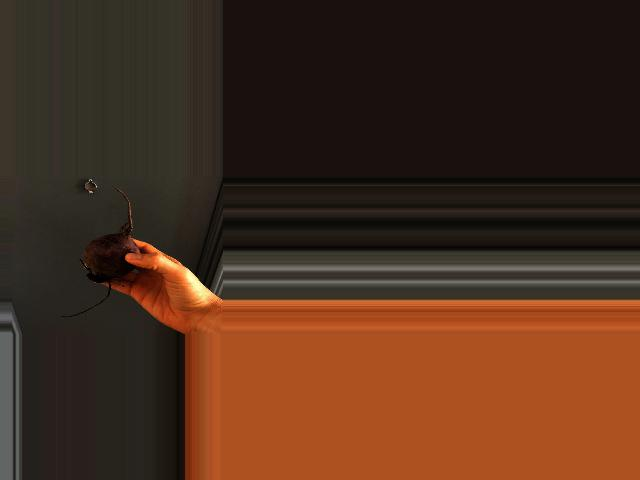beet: (60, 188, 140, 317)
